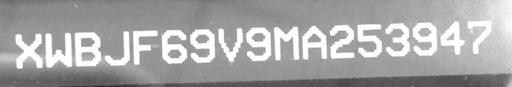letter: (216, 25, 246, 66), (102, 27, 132, 68), (43, 30, 73, 71), (12, 32, 44, 69), (271, 24, 301, 63), (382, 21, 412, 58), (300, 25, 330, 62), (73, 30, 103, 67), (244, 25, 272, 64), (188, 26, 216, 65), (131, 27, 159, 66), (438, 19, 466, 56), (355, 21, 383, 58), (160, 28, 188, 65), (466, 17, 492, 56), (328, 23, 356, 58), (412, 21, 438, 56)
